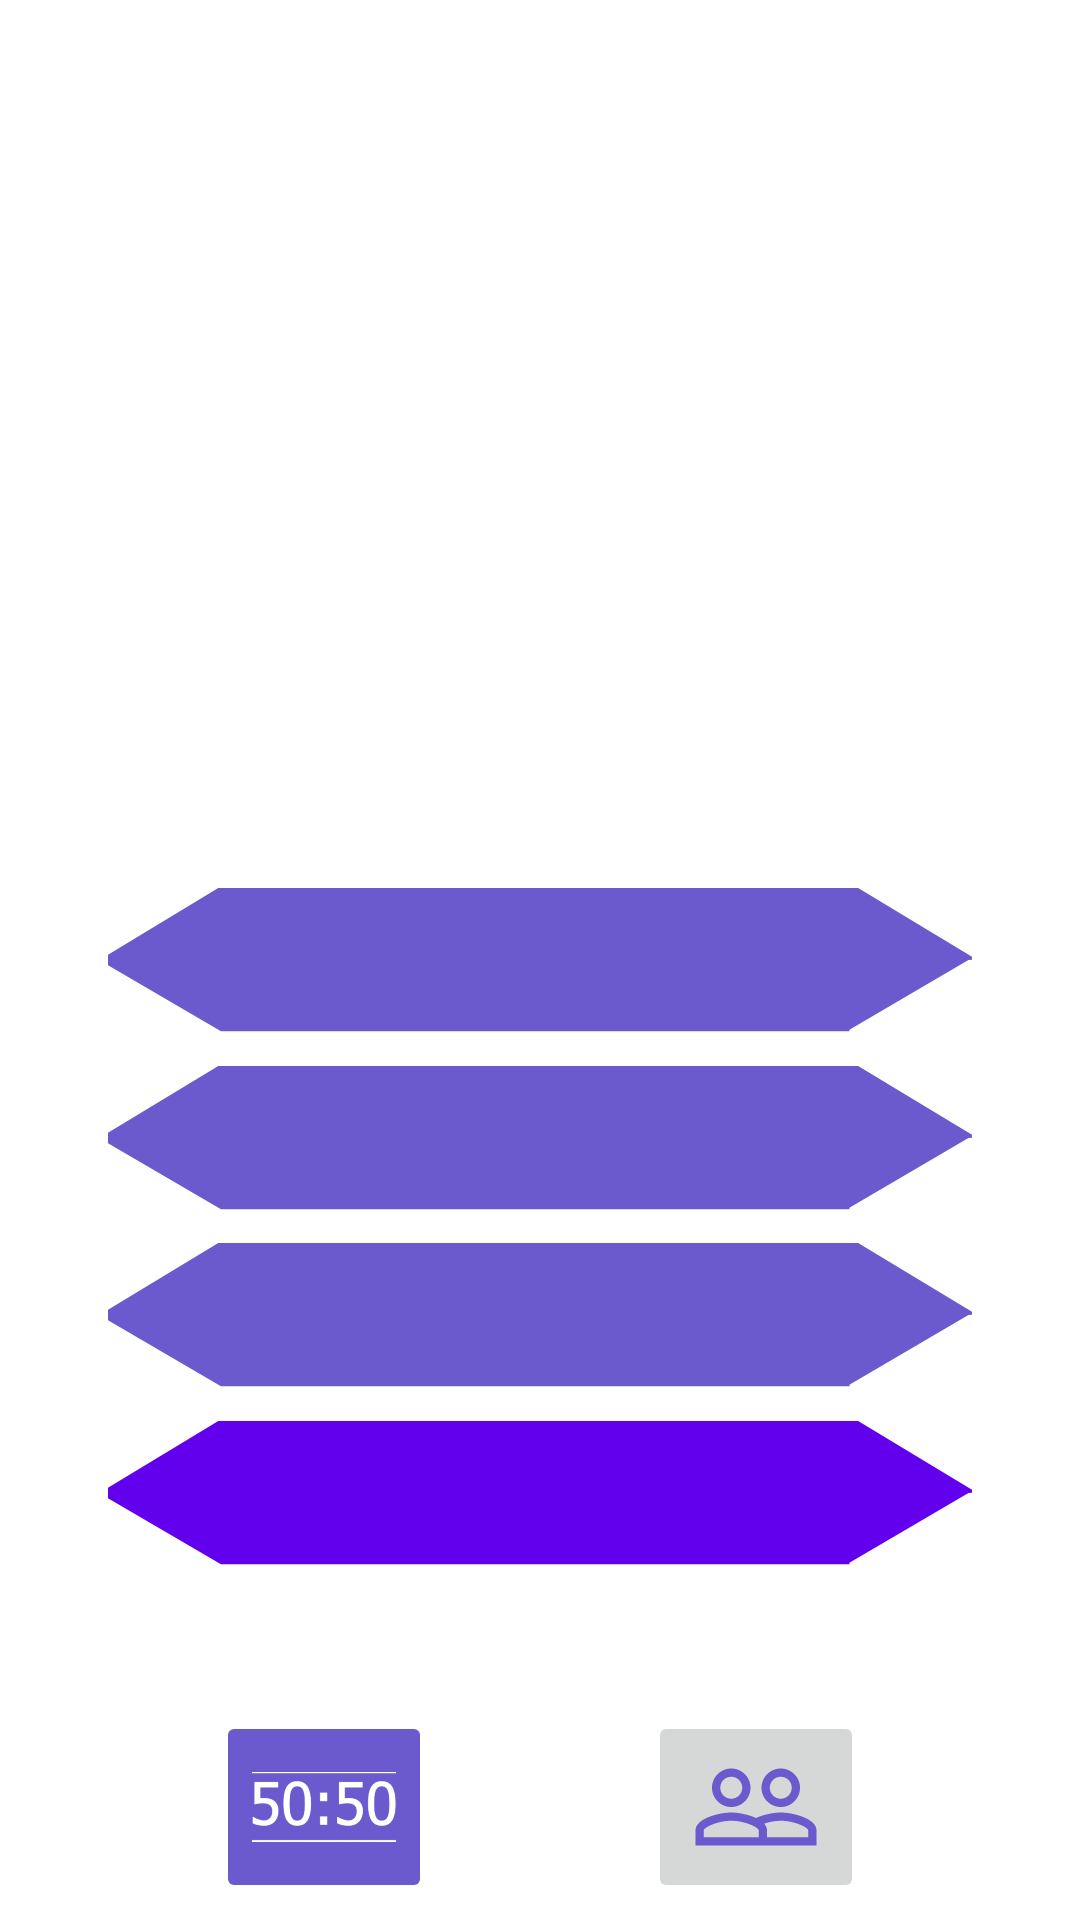

Icons on this 1080*1920 Android screen, each with its box as bbox(x1, y1, x2, y2):
people: bbox(660, 1729, 852, 1885)
